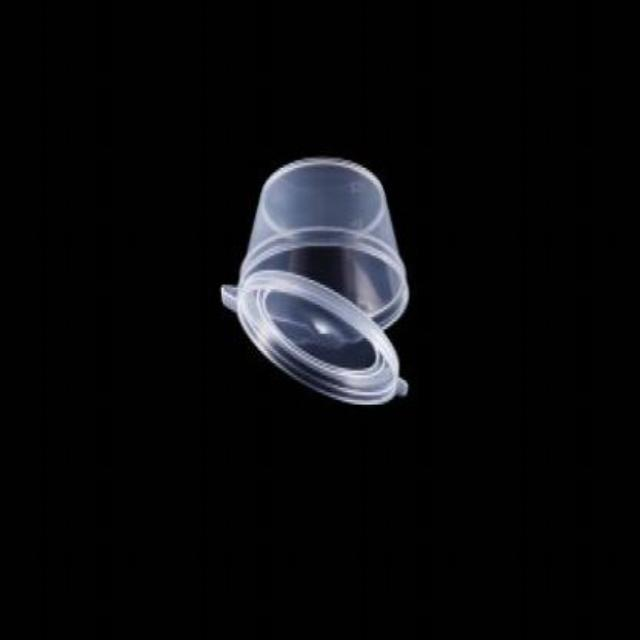plastic_box: (220, 161, 410, 405)
